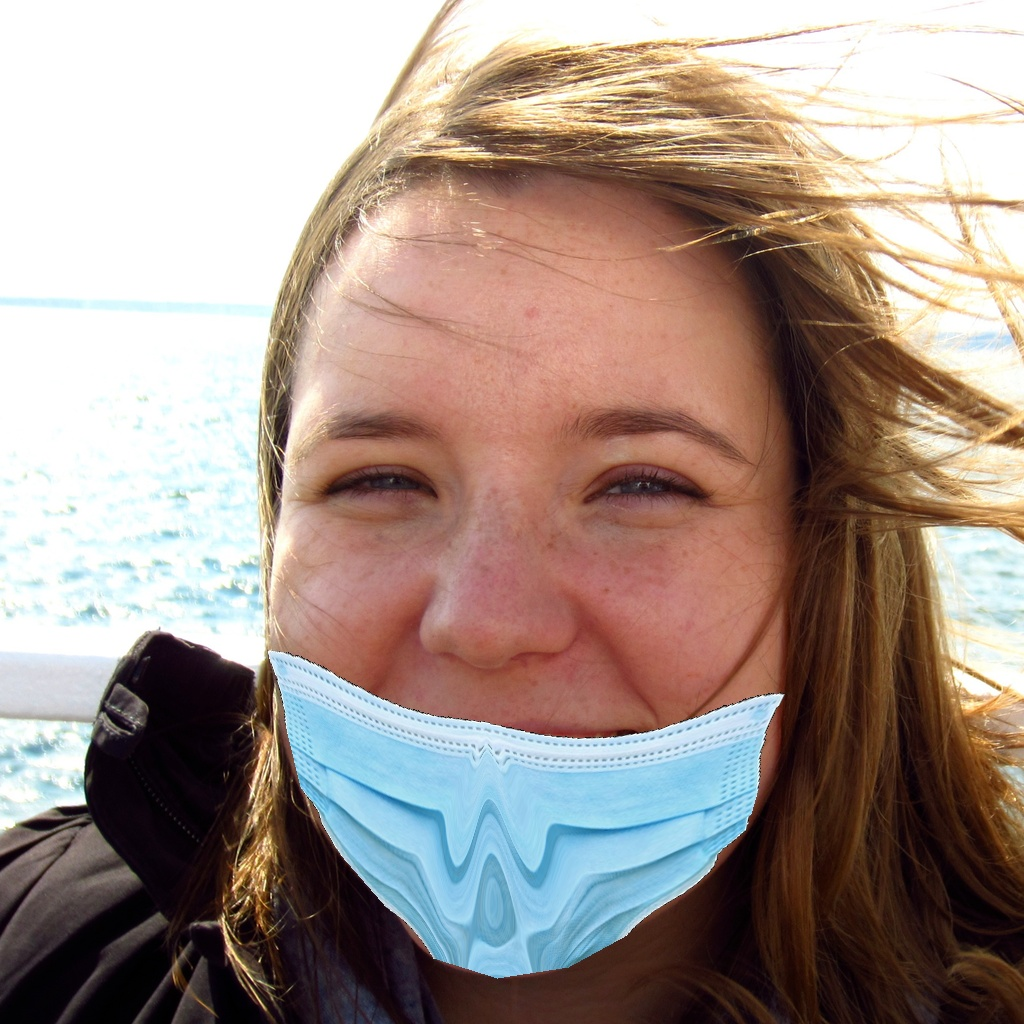mascarilla_mal_puesta: (162, 383, 824, 998)
